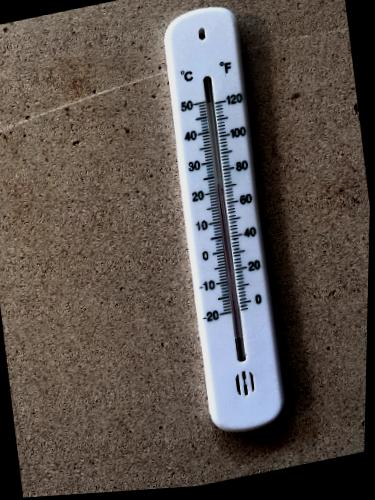thermo: (161, 4, 285, 435)
